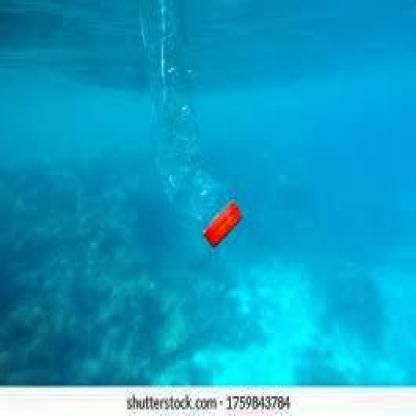pbottle: (123, 2, 251, 254)
